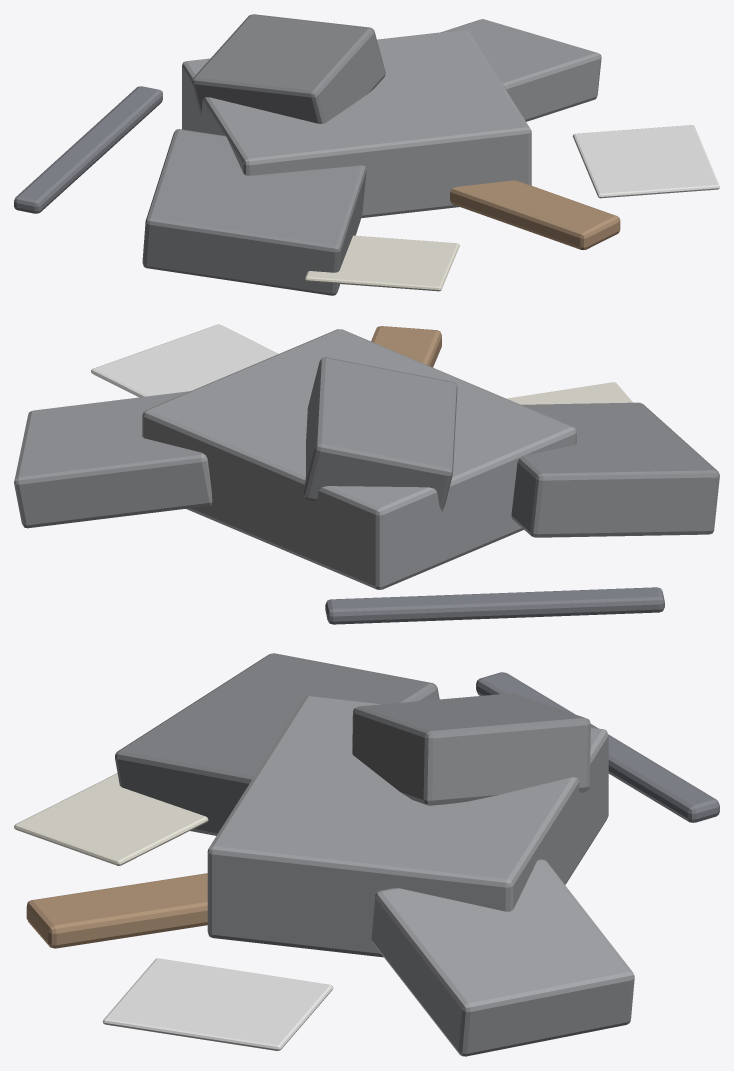
Rendered from prop_rubble.fbx.
3 views of the same model, one above another, from view 1: azimuth 30°, elevation 25°; view 2: azimuth 150°, elevation 25°; view 3: azimuth 270°, elevation 25° (orthographic). The views are drawn at different scales.
Visible parts, largest first — view 1: prop_rubble; view 2: prop_rubble; view 3: prop_rubble.
Boxes of the visible parts, <box> form: prop_rubble: <box>14,14,719,295</box>; prop_rubble: <box>14,324,719,624</box>; prop_rubble: <box>14,653,719,1056</box>.
Bounding box in the file's own units: 1.38 × 0.3196 × 1.11.
